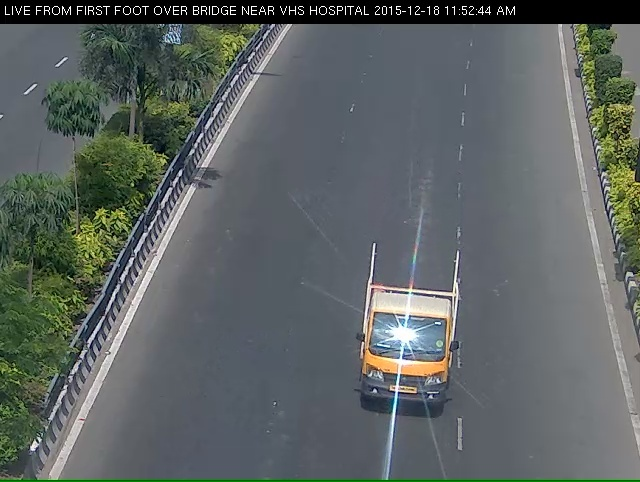Auto: (343, 263, 469, 460)
